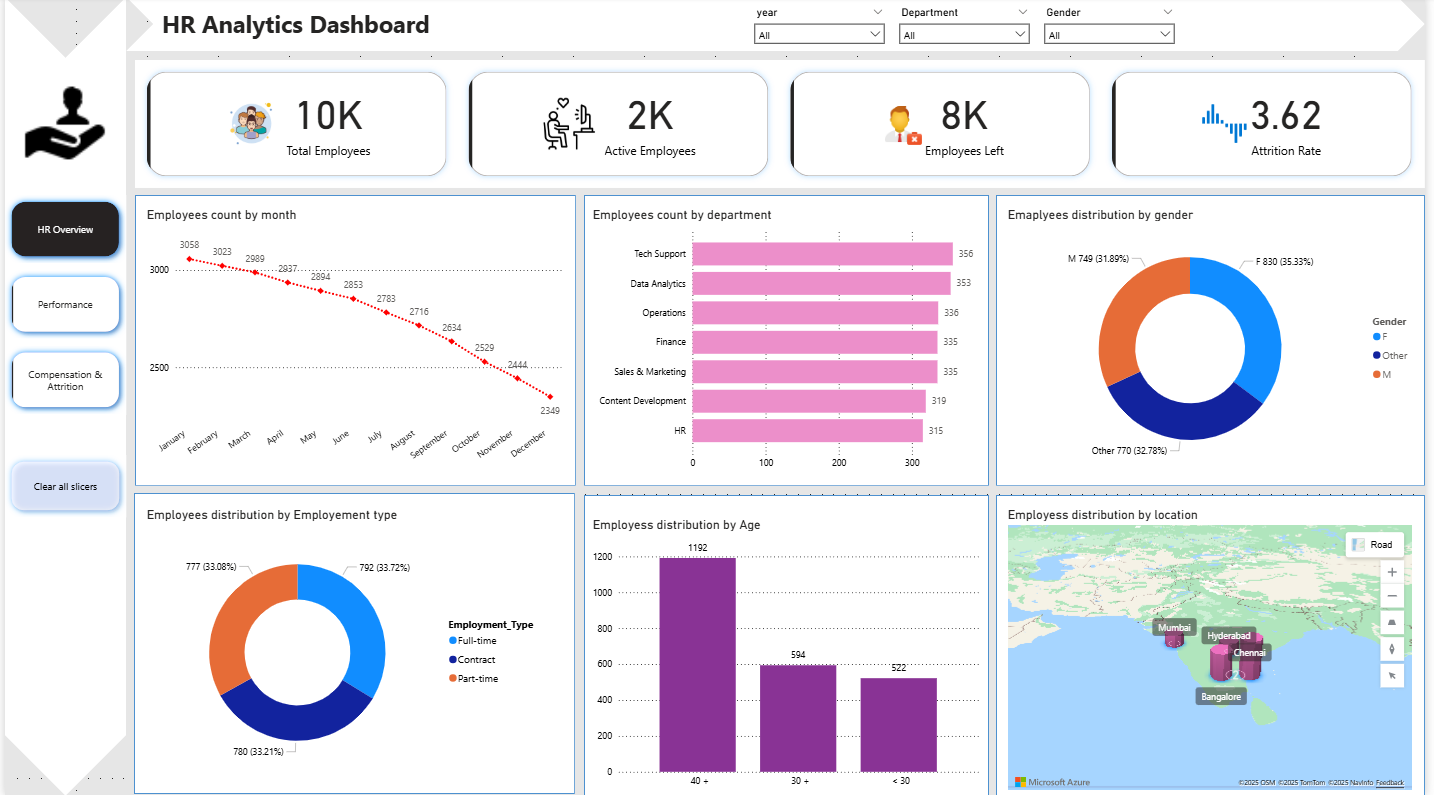

The page's visual inventory and layout, read from the dashboard file:
{"tool":"powerbi","page":{"name":"HR Overview","canvas":[1920,1080],"ordinal":0},"visuals":[{"type":"shape","box":[163.6,0,1756.4,73],"z":0},{"type":"textbox","box":[206.9,8.1,478.6,56.8],"z":1000},{"type":"slicer","fields":{"Values":["Department.Department_Name"]},"box":[1199.3,8.1,196.1,56.8],"z":2000},{"type":"slicer","fields":{"Values":["Calendar.year"]},"box":[1003.3,8.1,196.1,56.8],"z":3000},{"type":"slicer","fields":{"Values":["Employee.Gender"]},"box":[1395.4,8.1,196.1,56.8],"z":4000},{"type":"cardVisual","fields":{"Data":["Count(Employee.Employee_ID)","Employee.Active_Employees","Employee.Employees_Left","Employee.Attrition_Rate"]},"box":[175.8,85.2,1744.2,173.1],"z":5000},{"type":"shape","box":[0,0,163.6,1080.3],"z":6000},{"type":"shape","box":[175.8,267.7,596.3,393.5],"z":7000},{"type":"lineChart","title":"Employees count by month","fields":{"Y":["Employee.Active_Employees"],"Category":["Calendar.Date.Variation.Date Hierarchy.Month"]},"box":[186.6,283.9,573.3,363.7],"z":8000},{"type":"shape","box":[782.9,267.7,547.6,393.5],"z":9000},{"type":"clusteredBarChart","title":"Employees count by department","fields":{"Category":["Department.Department_Name"],"Y":["Employee.Active_Employees"]},"box":[789.6,283.9,535.4,363.7],"z":10000},{"type":"shape","box":[1339.9,267.7,580.1,393.5],"z":11000},{"type":"donutChart","title":"Emaplyees distribution by gender","fields":{"Y":["Employee.Active_Employees"],"Category":["Employee.Gender"]},"box":[1350.8,283.9,569.2,363.7],"z":12000},{"type":"shape","box":[174.4,670.6,596.3,407],"z":13000},{"type":"donutChart","title":"Employees distribution by Employement type","fields":{"Category":["Employee.Employment_Type"],"Y":["Employee.Active_Employees"]},"box":[186.6,689.6,547.6,374.5],"z":14000},{"type":"shape","box":[782.9,673.4,547.6,407],"z":15000},{"type":"clusteredColumnChart","title":"Employess distribution by Age","fields":{"Category":["Employee.Age (groups)"],"Y":["Employee.Active_Employees"]},"box":[789.6,703.1,535.4,374.5],"z":16000},{"type":"shape","box":[1339.9,673.4,580.1,407],"z":17000},{"type":"azureMap","title":"Employess distribution by location","fields":{"Size":["Employee.Active_Employees"],"Category":["Department.Location"]},"box":[1350.8,689.6,555.7,388.1],"z":18000},{"type":"pageNavigator","box":[0,267.7,163.6,297.5],"z":19000},{"type":"actionButton","box":[0,619.3,163.6,83.8],"z":20000},{"type":"image","box":[17.1,107.1,127.1,127.1],"z":21000}]}

Visuals, with their boxes on the page's 1920x1080 design canvas (x1, y1, x2, y2). These are canvas units, not pixel positions in the 1434x795 screenshot, which may show the page scaled, cropped or inside an application window:
shape: rect(164, 0, 1920, 73)
textbox: rect(207, 8, 686, 65)
slicer - Department.Department_Name: rect(1199, 8, 1395, 65)
slicer - Calendar.year: rect(1003, 8, 1199, 65)
slicer - Employee.Gender: rect(1395, 8, 1592, 65)
cardVisual - Count(Employee.Employee_ID) x Employee.Active_Employees: rect(176, 85, 1920, 258)
shape: rect(0, 0, 164, 1080)
shape: rect(176, 268, 772, 661)
"Employees count by month" lineChart: rect(187, 284, 760, 648)
shape: rect(783, 268, 1330, 661)
"Employees count by department" clusteredBarChart: rect(790, 284, 1325, 648)
shape: rect(1340, 268, 1920, 661)
"Emaplyees distribution by gender" donutChart: rect(1351, 284, 1920, 648)
shape: rect(174, 671, 771, 1078)
"Employees distribution by Employement type" donutChart: rect(187, 690, 734, 1064)
shape: rect(783, 673, 1330, 1080)
"Employess distribution by Age" clusteredColumnChart: rect(790, 703, 1325, 1078)
shape: rect(1340, 673, 1920, 1080)
"Employess distribution by location" azureMap: rect(1351, 690, 1906, 1078)
pageNavigator: rect(0, 268, 164, 565)
actionButton: rect(0, 619, 164, 703)
image: rect(17, 107, 144, 234)
